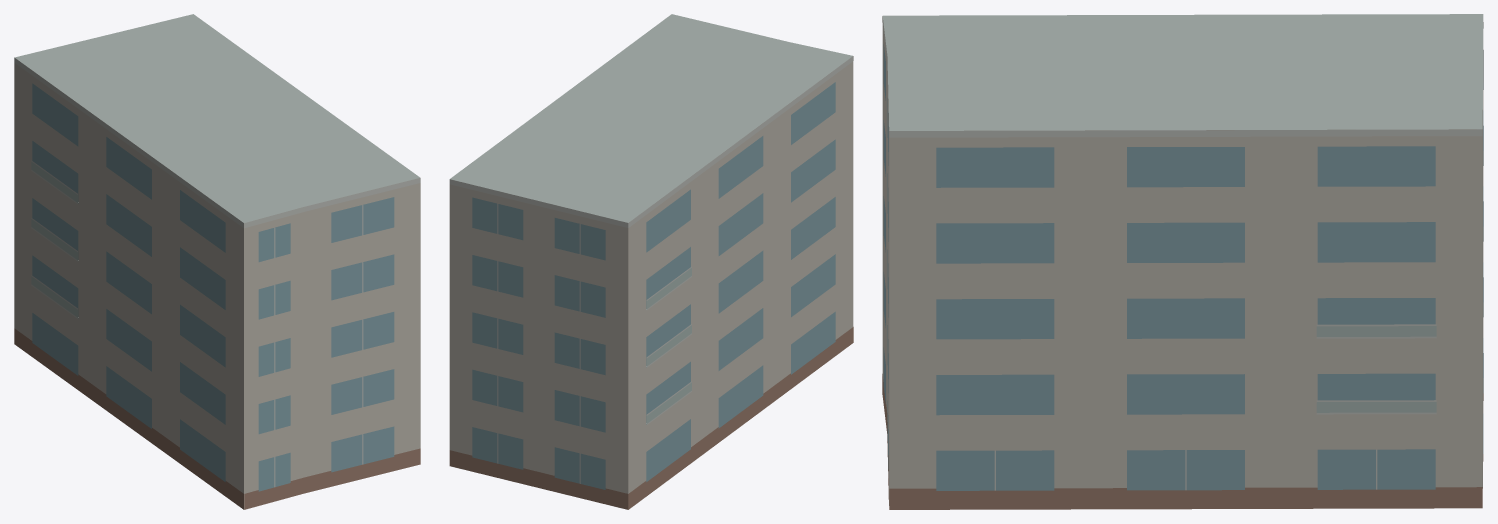
File: survey-upis-32741571.glb
3 views of the same model, side by side, from view 1: azimuth 30°, elevation 25°; view 2: azimuth 150°, elevation 25°; view 3: azimuth 270°, elevation 25° (orthographic). The views are drawn at different scales.
Parts seen in each view (by area): view 1: survey-upis-32741571.tmp; view 2: survey-upis-32741571.tmp; view 3: survey-upis-32741571.tmp.
Part boxes in pixels (box(x1,y1,x2,y2)): survey-upis-32741571.tmp: box(14, 14, 420, 509); survey-upis-32741571.tmp: box(449, 14, 853, 509); survey-upis-32741571.tmp: box(882, 14, 1483, 509).
Size of the model in its own units: 9.01 by 13.55 by 19.48.
